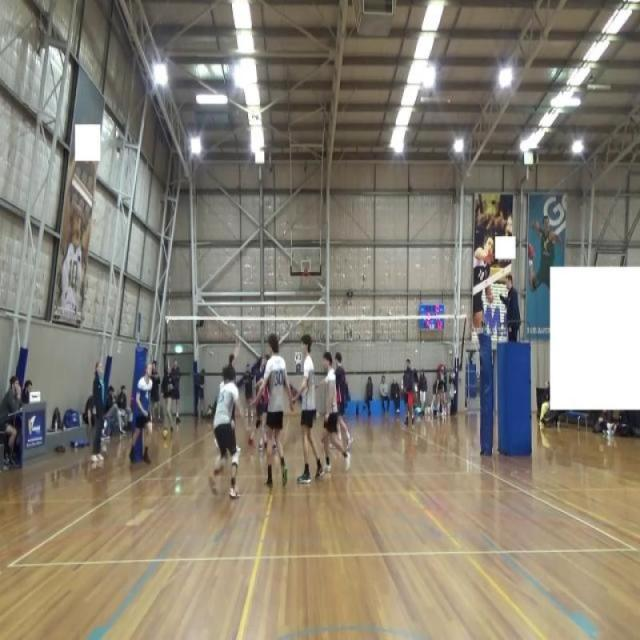volleyball: (162, 428, 170, 442)
